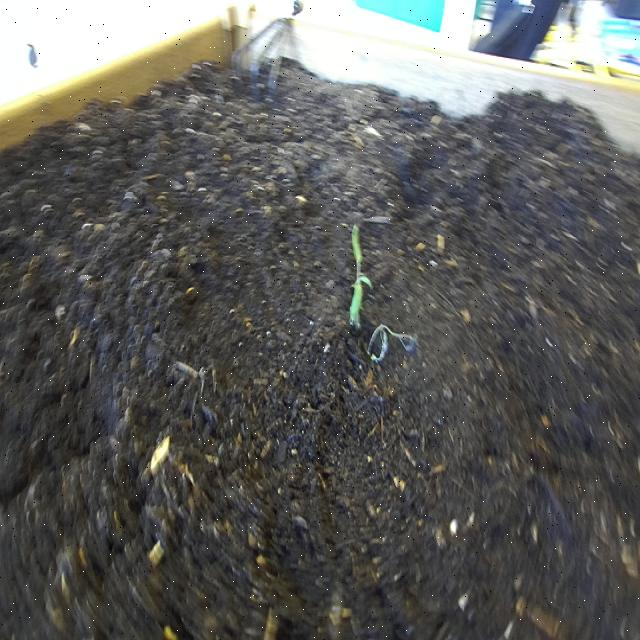Unhealthy: (347, 219, 374, 336), (367, 319, 419, 367)
